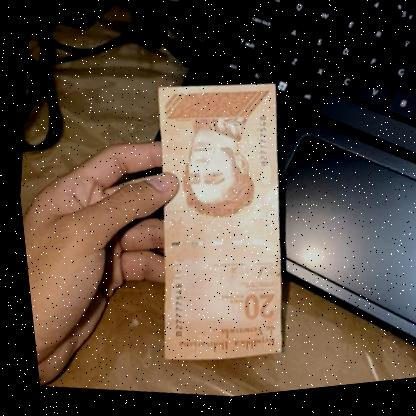twenty-front-vef: (112, 69, 317, 385)
